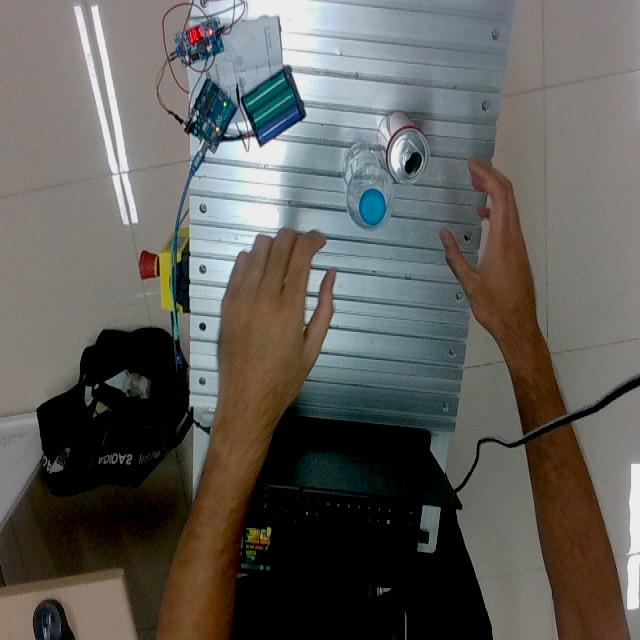coca: (378, 111, 431, 184)
lavie: (342, 143, 393, 232)
